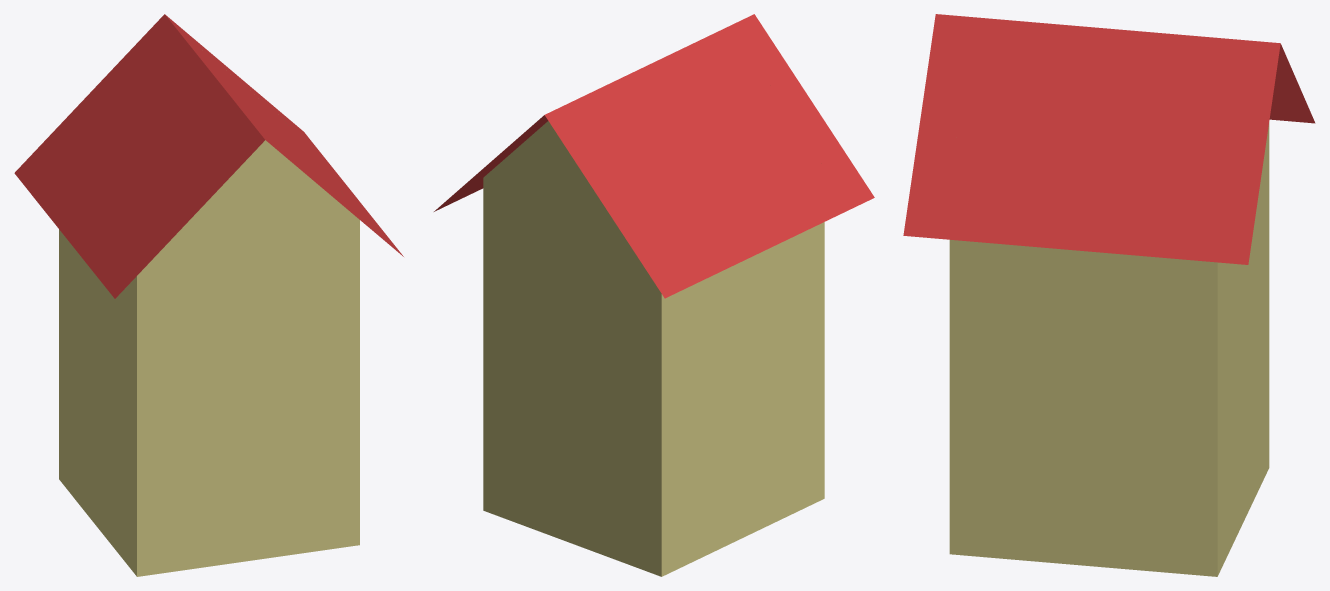
3 views of the same model, side by side, from view 1: azimuth 30°, elevation 25°; view 2: azimuth 150°, elevation 25°; view 3: azimuth 270°, elevation 25° (orthographic). The views are drawn at different scales.
Bounding box in the file's own units: 10.28 × 10.48 × 13.61.
